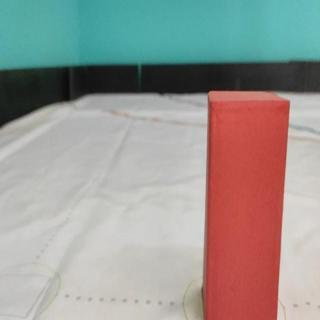redbox: (202, 89, 289, 320)
